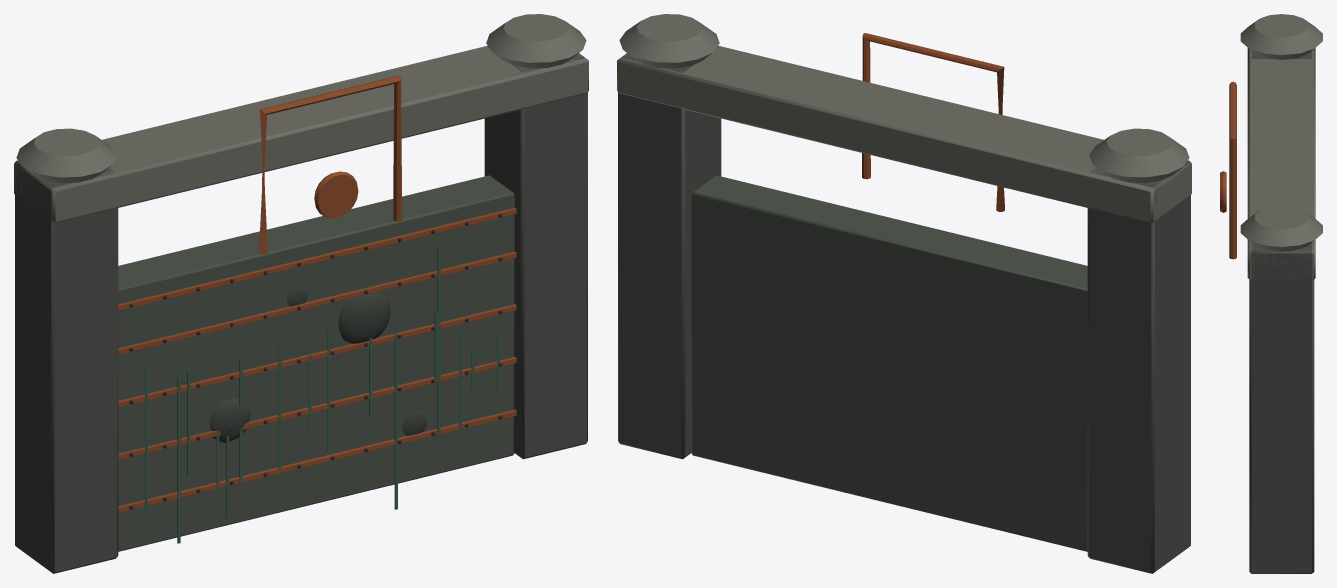
The model's file is sluice_gate.glb.
3 renders of one model, left to right at view 1: azimuth 30°, elevation 25°; view 2: azimuth 150°, elevation 25°; view 3: azimuth 270°, elevation 25°, orthographic. The views are drawn at different scales.
Parts seen in each view (by area): view 1: sluice_gate; view 2: sluice_gate; view 3: sluice_gate.
Boxes of the visible parts, x1,y1,x2,y2 form: sluice_gate: [14, 14, 588, 573]; sluice_gate: [617, 14, 1191, 573]; sluice_gate: [1220, 14, 1322, 573].
Bounding box in the file's own units: 33.2 × 25.47 × 6.33.
